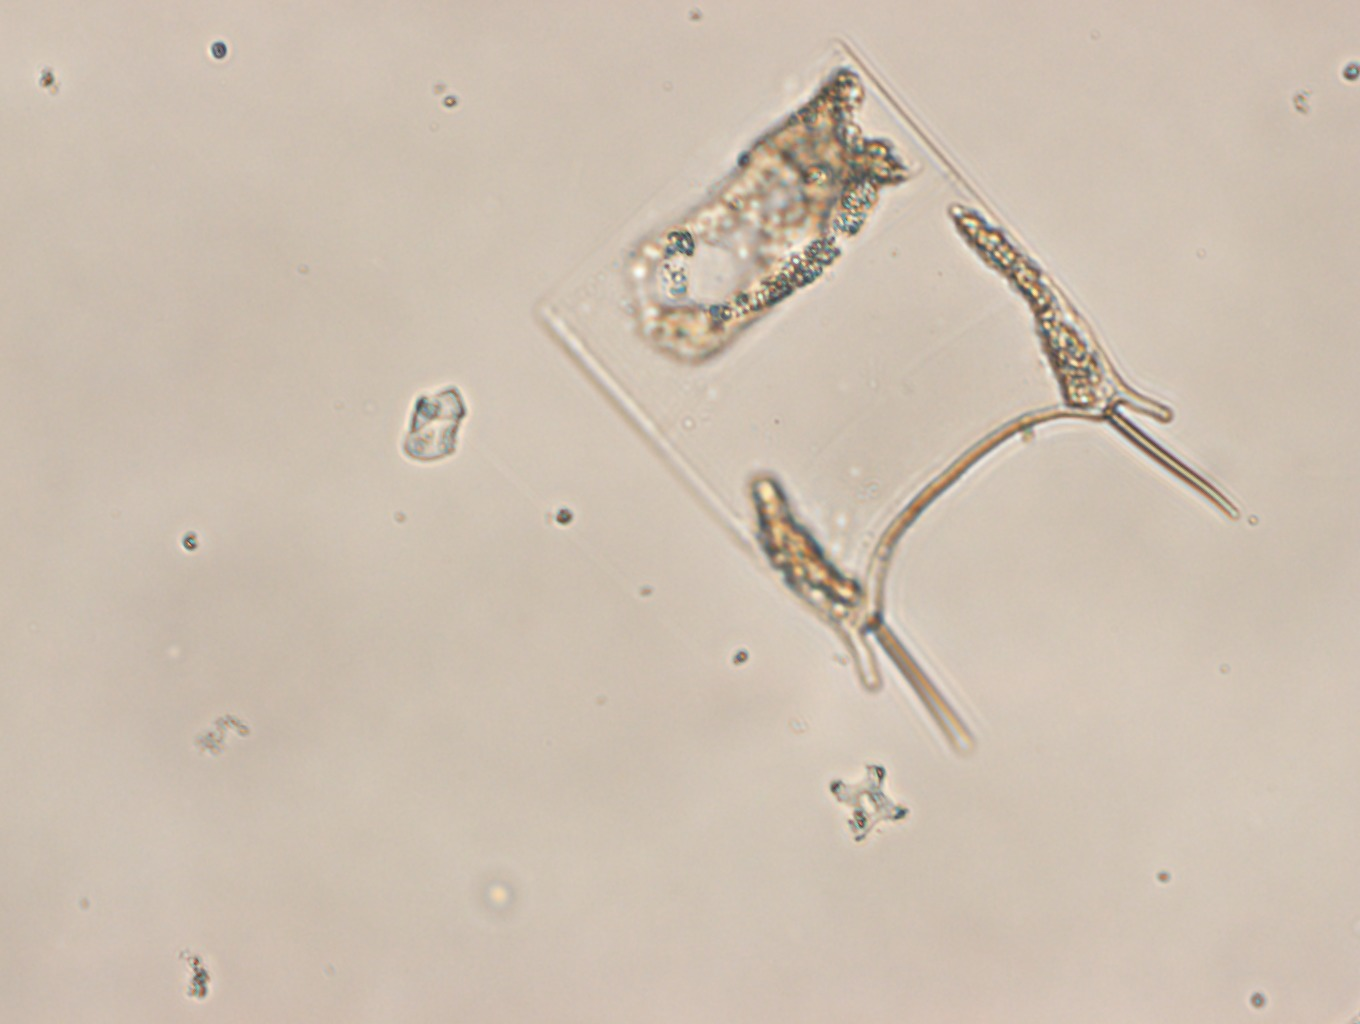biddulphia: (536, 39, 1246, 751)
